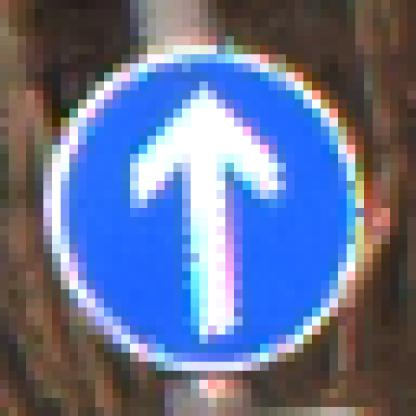AheadOnly: (44, 46, 365, 372)
